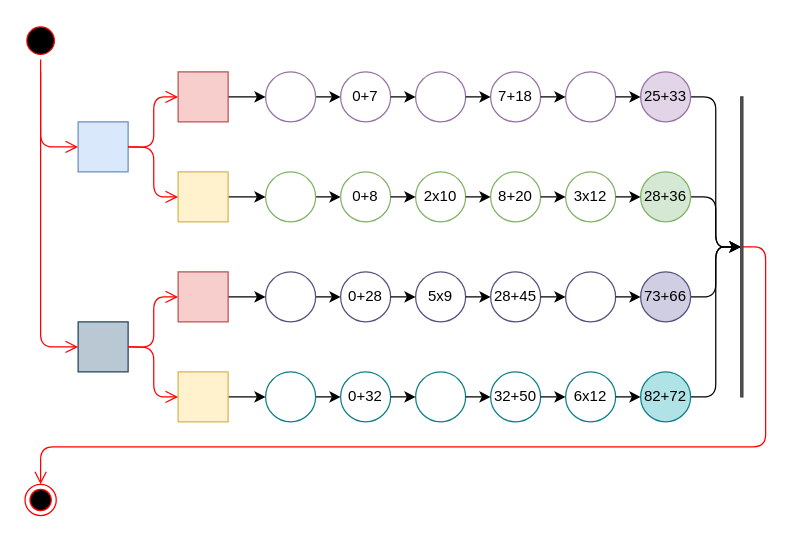
The diagram is 800 pixels wide and 538 high, and some of its shapes have lost their labels. Each missing label, with the box of its shape:
1x7: (264, 71, 316, 122)
1x8: (264, 171, 316, 222)
2x9: (414, 71, 466, 122)
3x11: (564, 71, 616, 122)
4x7: (264, 271, 316, 322)
4x8: (264, 371, 316, 422)
5x10: (414, 371, 466, 422)
6x11: (564, 271, 616, 322)
